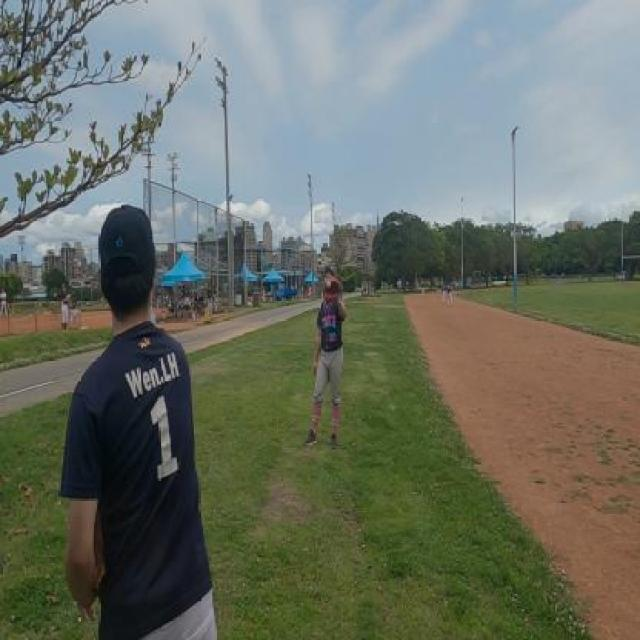baseball: (326, 280, 331, 289)
